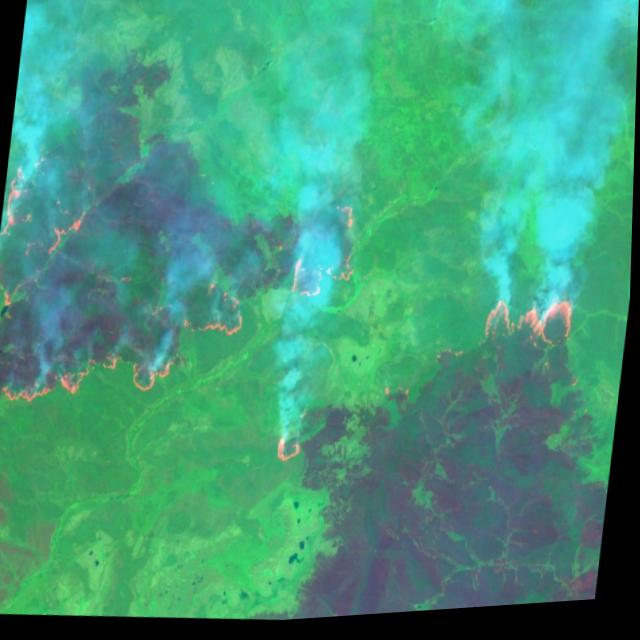fire: (0, 134, 378, 493), (468, 278, 593, 380)
